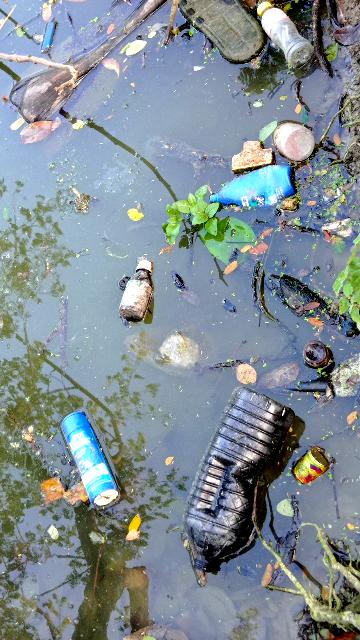bottle: (175, 376, 319, 587), (55, 398, 126, 513), (232, 0, 326, 85), (112, 244, 169, 330), (213, 167, 293, 209)
